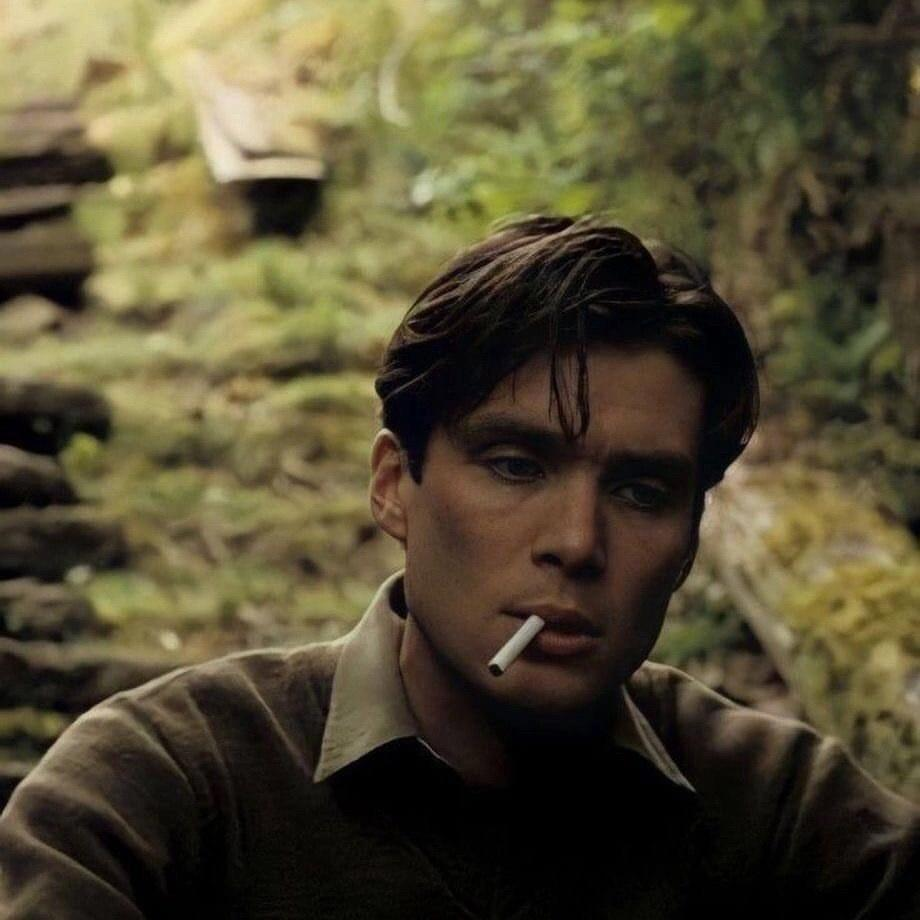cigarette: (487, 615, 544, 675)
